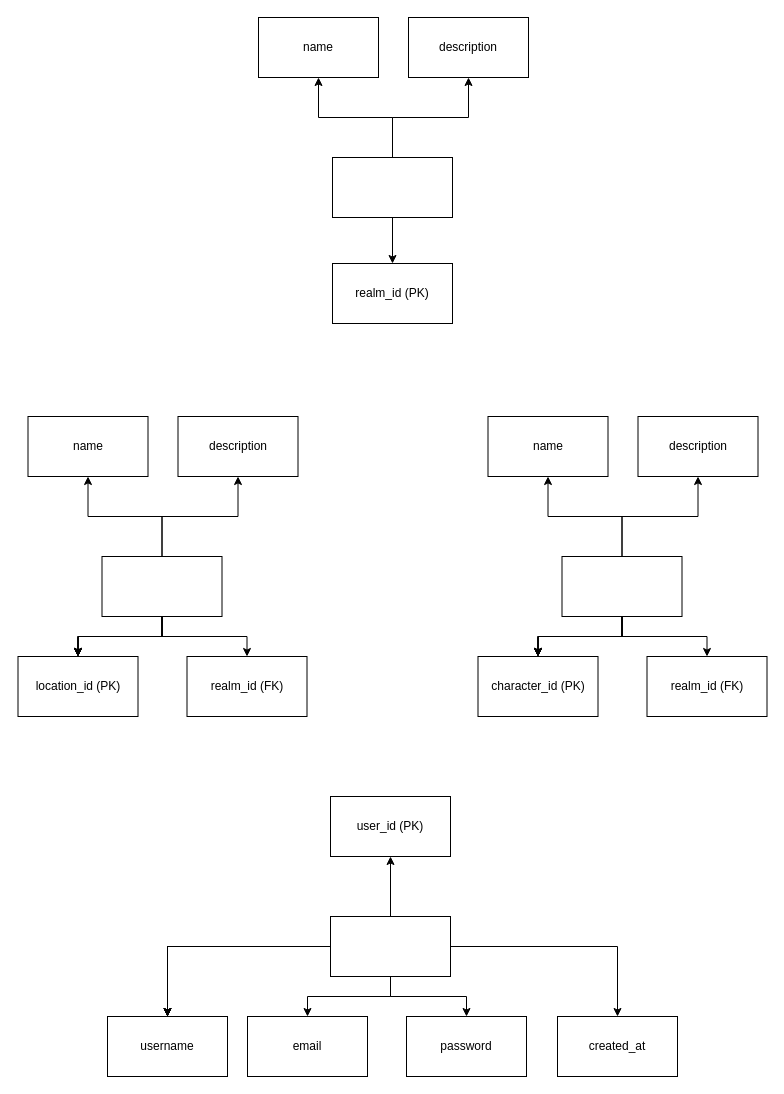
Image size: 784x1094. Some labels were removed from this diagram. Here are the shapes that lost their labels. From the top down, the centre of each, then its label:
At point 392,187: "Realms".
At point 161,586: "Locations".
At point 621,586: "Characters".
At point 390,946: "Users".
